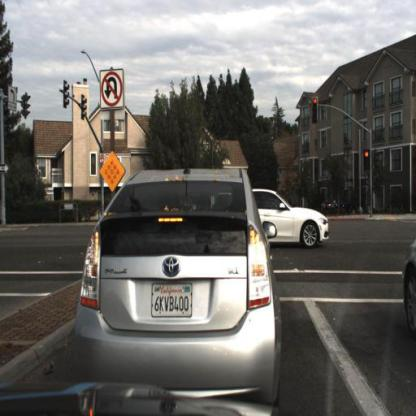car: (73, 162, 285, 401), (224, 187, 331, 253), (400, 226, 416, 354), (320, 194, 356, 218)
trafficLight-Red: (310, 93, 321, 126), (363, 148, 372, 175)
